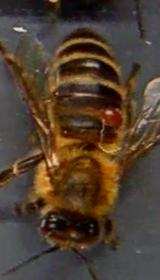varroa_mite: (99, 100, 122, 130)
